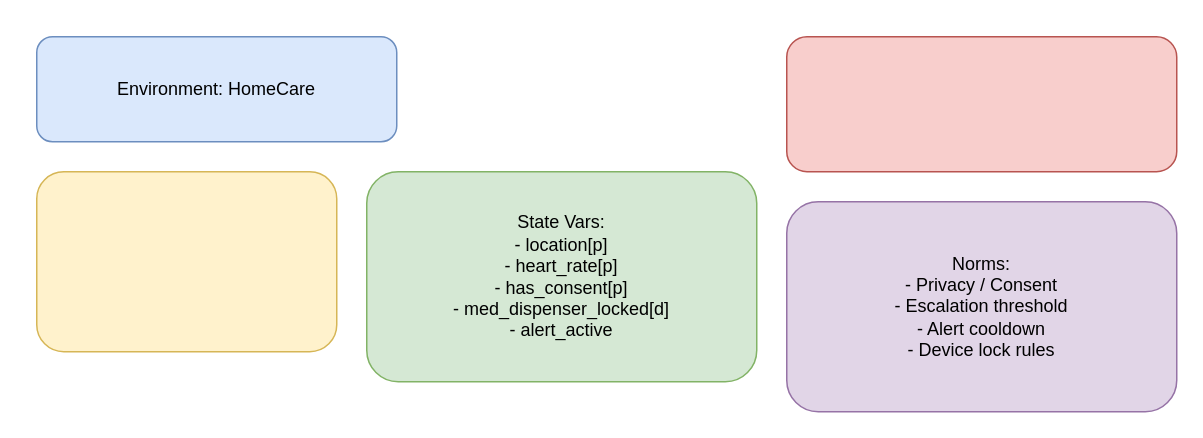
Some shapes in this 1203 by 438 pixel diagram are drawn without their labels. The centre of each missing label's shape, as x and y in pixels:
"Agents: • HomeAssistant • RemoteClinician" belongs at [981,103].
"Objects: - Patient - Room - Device" belongs at [186,261].
